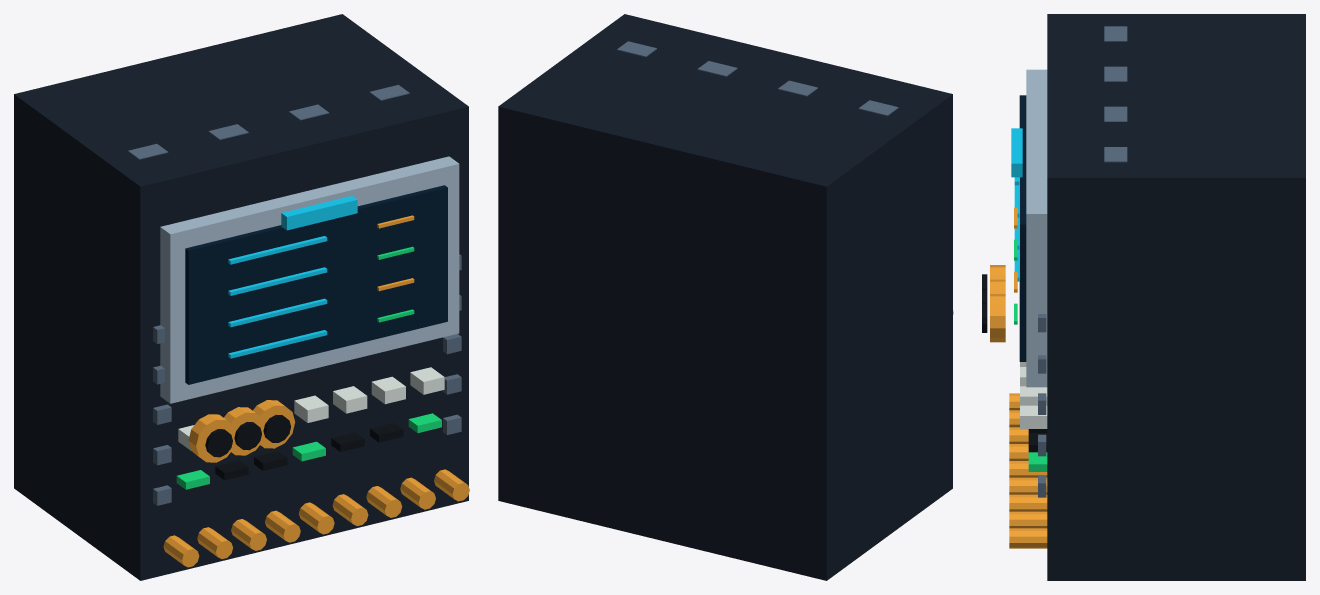
Rendered from 55_L88_WaterResourceBudgetAnalyzer.fbx.
3 views of the same model, side by side, from view 1: azimuth 30°, elevation 25°; view 2: azimuth 150°, elevation 25°; view 3: azimuth 270°, elevation 25° (orthographic). The views are drawn at different scales.
Visible parts, largest first — view 1: L87_WaterResourceBudgetAnalyzer_Part_0000, L87_WaterResourceBudgetAnalyzer_Part_0002, L87_WaterResourceBudgetAnalyzer_Part_0001, L87_WaterResourceBudgetAnalyzer_Part_0004, L87_WaterResourceBudgetAnalyzer_Part_0008, L87_WaterResourceBudgetAnalyzer_Part_0006, L87_WaterResourceBudgetAnalyzer_Part_0003, L87_WaterResourceBudgetAnalyzer_Part_0007, L87_WaterResourceBudgetAnalyzer_Part_0005, L87_WaterResourceBudgetAnalyzer_Part_0009, L87_WaterResourceBudgetAnalyzer_Part_0010, L87_WaterResourceBudgetAnalyzer_Part_0014 (+4 smaller); view 2: L87_WaterResourceBudgetAnalyzer_Part_0000, L87_WaterResourceBudgetAnalyzer_Part_0008; view 3: L87_WaterResourceBudgetAnalyzer_Part_0000, L87_WaterResourceBudgetAnalyzer_Part_0001, L87_WaterResourceBudgetAnalyzer_Part_0004, L87_WaterResourceBudgetAnalyzer_Part_0008, L87_WaterResourceBudgetAnalyzer_Part_0002, L87_WaterResourceBudgetAnalyzer_Part_0006, L87_WaterResourceBudgetAnalyzer_Part_0014, L87_WaterResourceBudgetAnalyzer_Part_0009, L87_WaterResourceBudgetAnalyzer_Part_0005, L87_WaterResourceBudgetAnalyzer_Part_0003.
Boxes of the visible parts, x1,y1,x2,y2 form: L87_WaterResourceBudgetAnalyzer_Part_0000: [14, 14, 468, 580]; L87_WaterResourceBudgetAnalyzer_Part_0002: [185, 185, 447, 384]; L87_WaterResourceBudgetAnalyzer_Part_0001: [160, 156, 459, 403]; L87_WaterResourceBudgetAnalyzer_Part_0004: [163, 215, 469, 567]; L87_WaterResourceBudgetAnalyzer_Part_0008: [128, 85, 461, 505]; L87_WaterResourceBudgetAnalyzer_Part_0006: [178, 367, 444, 450]; L87_WaterResourceBudgetAnalyzer_Part_0003: [228, 236, 327, 358]; L87_WaterResourceBudgetAnalyzer_Part_0007: [215, 423, 403, 480]; L87_WaterResourceBudgetAnalyzer_Part_0005: [176, 246, 441, 489]; L87_WaterResourceBudgetAnalyzer_Part_0009: [281, 196, 357, 230]; L87_WaterResourceBudgetAnalyzer_Part_0010: [188, 414, 235, 462]; L87_WaterResourceBudgetAnalyzer_Part_0014: [253, 400, 295, 448]; L87_WaterResourceBudgetAnalyzer_Part_0000: [498, 14, 952, 580]; L87_WaterResourceBudgetAnalyzer_Part_0008: [617, 41, 898, 115]; L87_WaterResourceBudgetAnalyzer_Part_0000: [1047, 14, 1305, 580]; L87_WaterResourceBudgetAnalyzer_Part_0001: [1026, 69, 1047, 387]; L87_WaterResourceBudgetAnalyzer_Part_0004: [1009, 207, 1047, 548]; L87_WaterResourceBudgetAnalyzer_Part_0008: [1038, 26, 1127, 497]; L87_WaterResourceBudgetAnalyzer_Part_0002: [1019, 95, 1026, 361]; L87_WaterResourceBudgetAnalyzer_Part_0006: [1020, 362, 1047, 428]; L87_WaterResourceBudgetAnalyzer_Part_0014: [990, 294, 1005, 342]; L87_WaterResourceBudgetAnalyzer_Part_0009: [1011, 128, 1022, 177]; L87_WaterResourceBudgetAnalyzer_Part_0005: [1014, 239, 1047, 471]; L87_WaterResourceBudgetAnalyzer_Part_0003: [1014, 177, 1019, 281].
Size of the model in its own units: 104 by 120 by 86.88.
